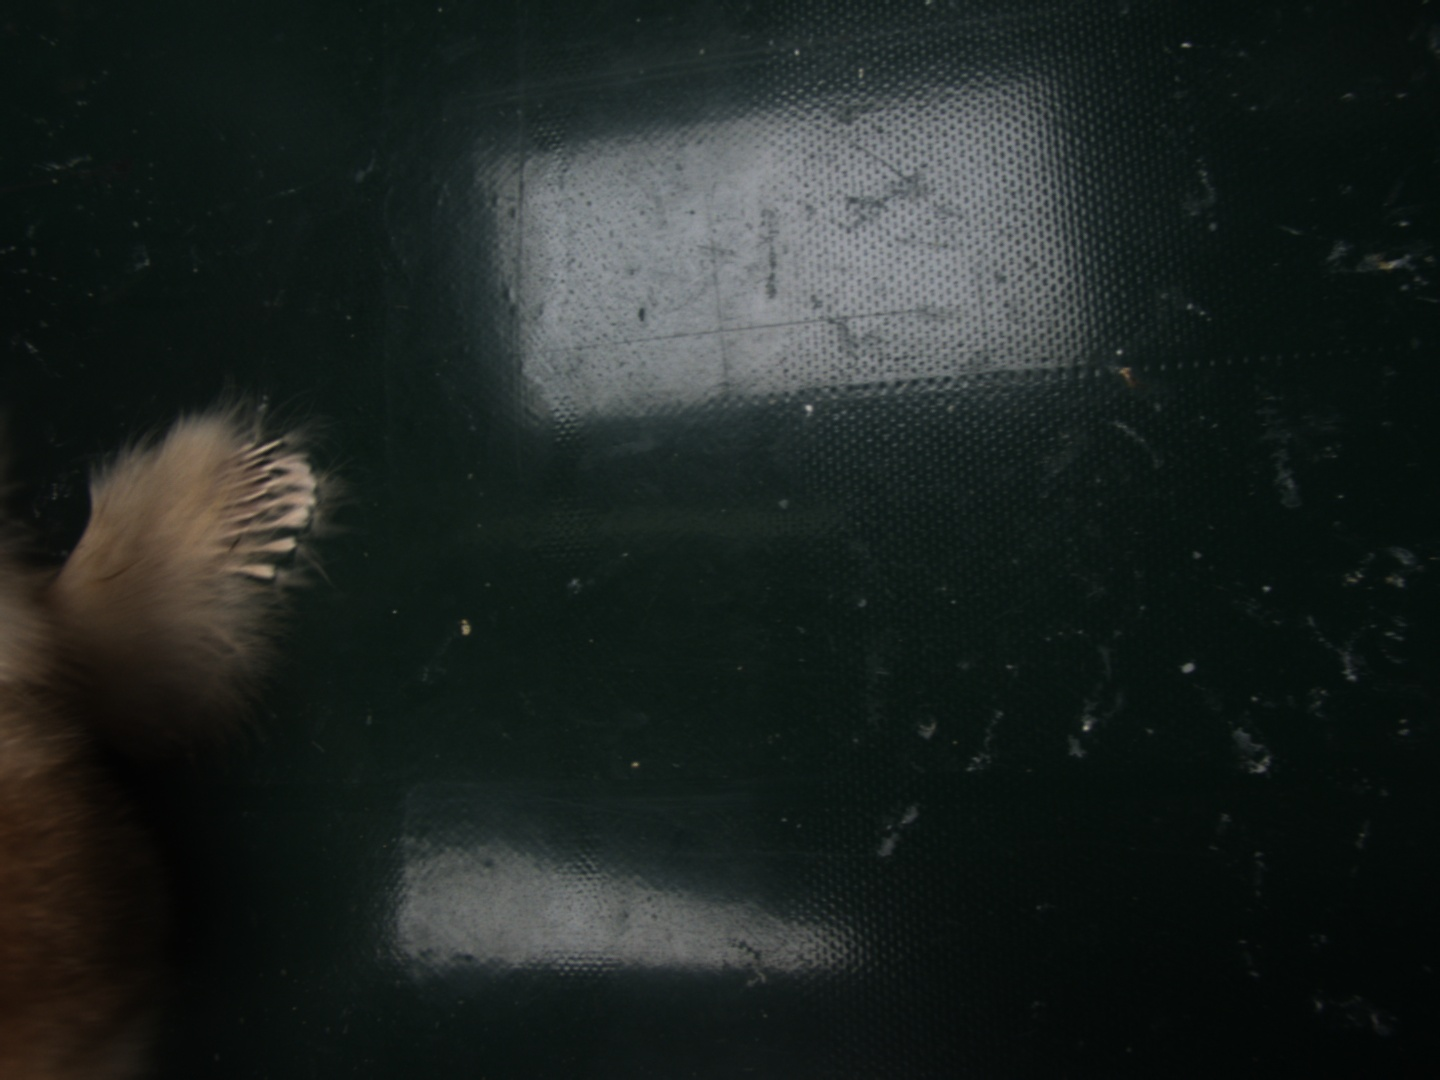female: (207, 437, 317, 585)
